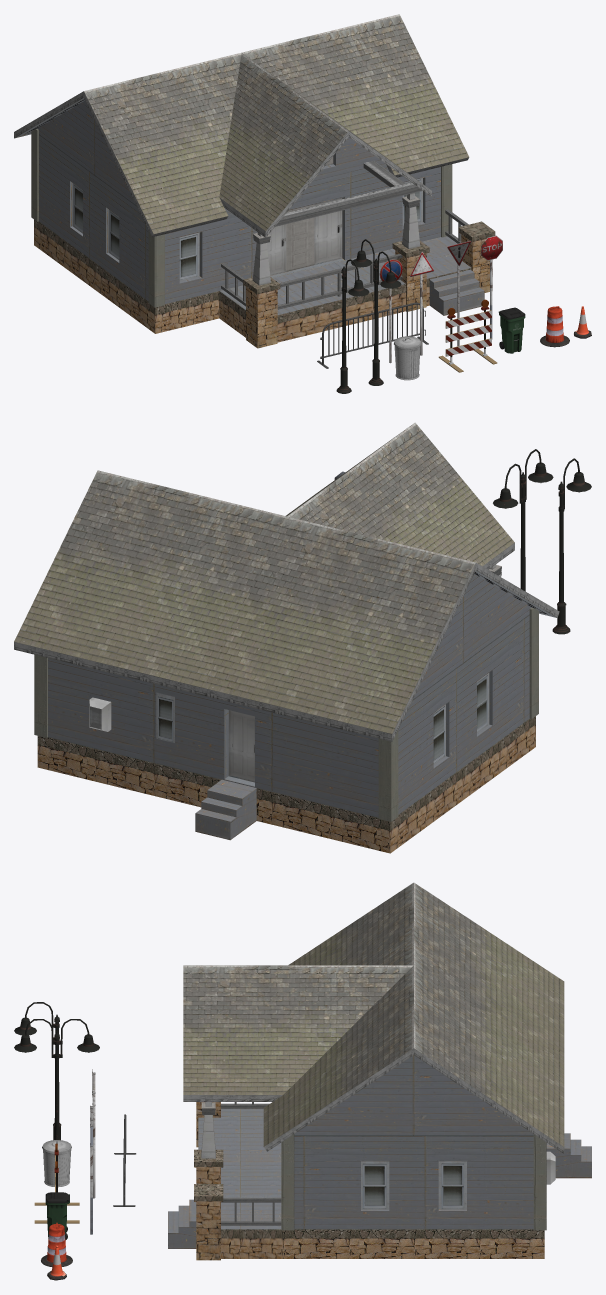
The model's file is grid_assets.fbx.
3 views of the same model, one above another, from view 1: azimuth 30°, elevation 25°; view 2: azimuth 150°, elevation 25°; view 3: azimuth 270°, elevation 25° (orthographic). The views are drawn at different scales.
Parts seen in each view (by area): view 1: Rural_WoodenBuilding_2, barrier, metal_barrier2, metal street props low poly.013, metal street props low poly.007, metal street props low poly.012, TrashCan_Green, Barrel, stop, no_waiting, warning, give_way; view 2: Rural_WoodenBuilding_2, metal street props low poly.013, metal street props low poly.012; view 3: Rural_WoodenBuilding_2, metal street props low poly.013, metal street props low poly.007, Barrel, TrashCan_Green, metal street props low poly.012.
Part boxes in pixels (x1,y1,x2,y2): Rural_WoodenBuilding_2: [14, 14, 495, 348]; barrier: [438, 299, 497, 372]; metal_barrier2: [317, 302, 428, 368]; metal street props low poly.013: [351, 239, 401, 385]; metal street props low poly.007: [394, 336, 421, 380]; metal street props low poly.012: [336, 259, 369, 393]; TrashCan_Green: [498, 307, 525, 353]; Barrel: [540, 306, 569, 347]; stop: [481, 235, 502, 339]; no_waiting: [379, 259, 402, 363]; warning: [410, 251, 434, 355]; give_way: [447, 240, 471, 346]; Rural_WoodenBuilding_2: [14, 422, 559, 853]; metal street props low poly.013: [493, 449, 553, 591]; metal street props low poly.012: [552, 458, 591, 634]; Rural_WoodenBuilding_2: [168, 882, 591, 1260]; metal street props low poly.013: [14, 1019, 99, 1139]; metal street props low poly.007: [42, 1140, 71, 1187]; Barrel: [41, 1222, 72, 1267]; TrashCan_Green: [45, 1192, 69, 1239]; metal street props low poly.012: [14, 1002, 61, 1140].
Bounding box in the file's own units: 80.51 × 45.9 × 110.
